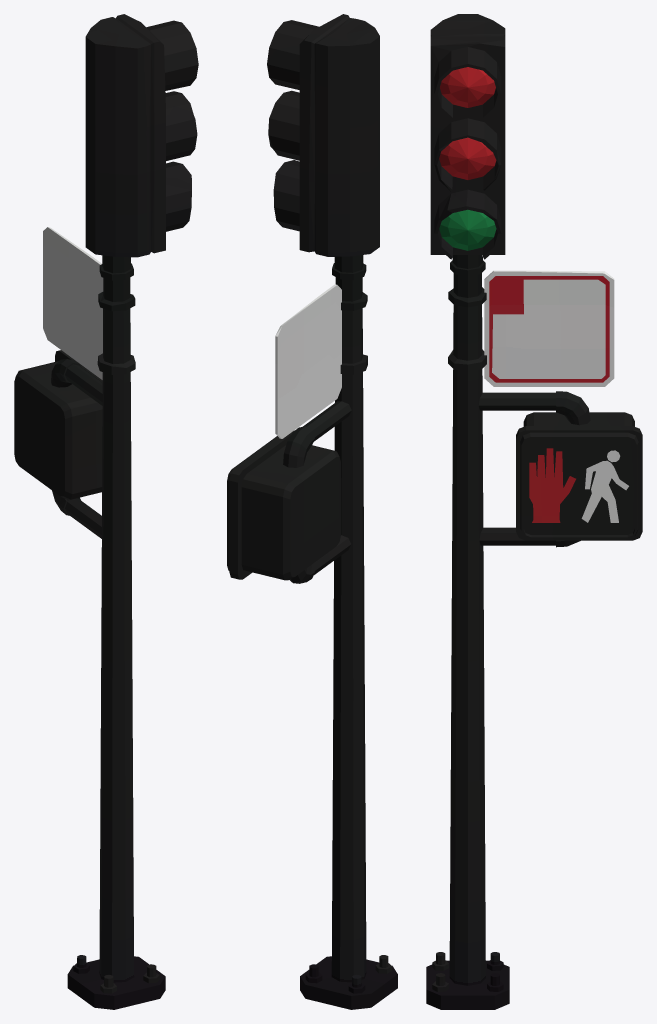
File: LightPole10.fbx
The picture shows the model from 3 angles, left to right: view 1: azimuth 30°, elevation 25°; view 2: azimuth 150°, elevation 25°; view 3: azimuth 270°, elevation 25°; orthographic projection.
Visible parts, largest first — view 1: SM_City_LightPole_03a.mo; view 2: SM_City_LightPole_03a.mo; view 3: SM_City_LightPole_03a.mo.
Boxes of the visible parts, x1,y1,x2,y2 form: SM_City_LightPole_03a.mo: (14,14,198,1009); SM_City_LightPole_03a.mo: (227,14,397,1009); SM_City_LightPole_03a.mo: (426,14,642,1009).
Size of the model in its own units: 49.05 by 443 by 89.91.
